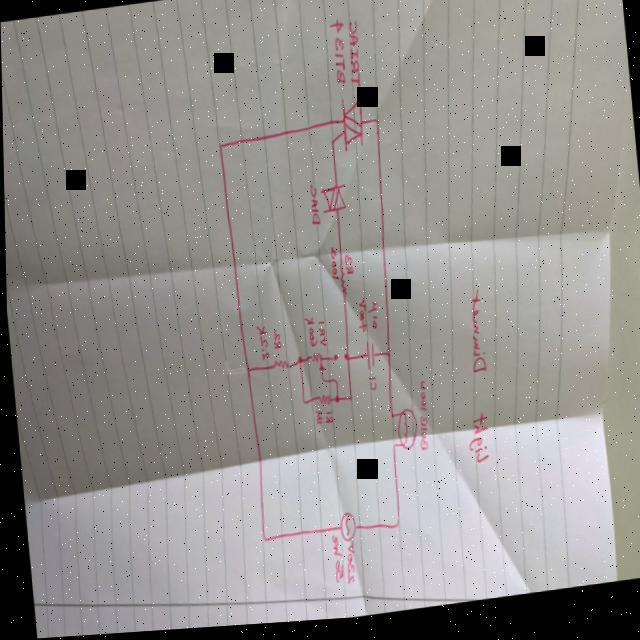capacitor: (360, 344, 375, 377)
junction: (390, 518, 398, 536), (340, 355, 349, 370), (257, 534, 264, 549), (294, 359, 301, 371), (215, 143, 222, 155), (317, 379, 325, 389), (372, 121, 379, 132), (329, 357, 336, 368), (243, 369, 250, 379), (331, 398, 337, 409), (299, 401, 306, 410), (383, 353, 388, 365), (327, 143, 334, 151), (331, 381, 336, 391), (387, 416, 392, 426), (345, 399, 350, 408), (388, 447, 393, 455)
resistor: (306, 354, 324, 379), (268, 360, 289, 377), (336, 274, 346, 304), (315, 397, 329, 412)
source: (335, 514, 355, 548)
text: (452, 294, 494, 472), (327, 22, 349, 92), (411, 384, 429, 458), (344, 23, 362, 94), (326, 537, 342, 590), (340, 544, 354, 593), (253, 325, 269, 367), (306, 186, 320, 232), (352, 300, 367, 340), (301, 318, 315, 354), (364, 304, 378, 337), (326, 250, 338, 287), (340, 256, 353, 282), (315, 323, 325, 353), (269, 330, 280, 356), (364, 378, 375, 397), (311, 412, 320, 431), (322, 413, 331, 431)
